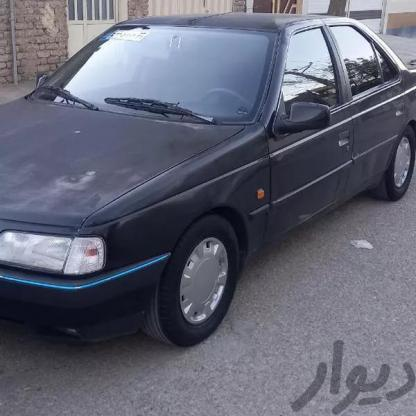Car: (0, 6, 416, 350)
